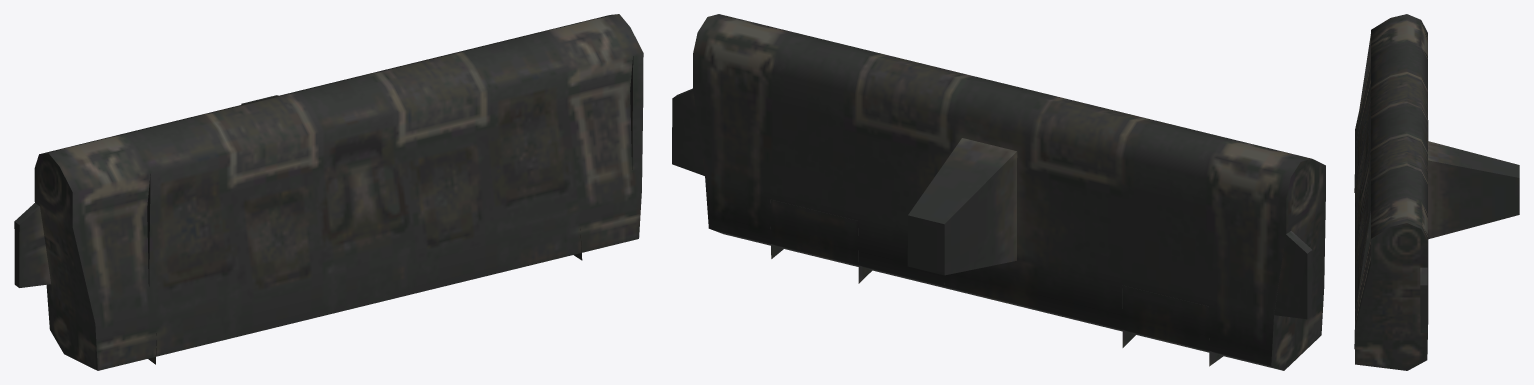
3 renders of one model, left to right at view 1: azimuth 30°, elevation 25°; view 2: azimuth 150°, elevation 25°; view 3: azimuth 270°, elevation 25°, orthographic. The views are drawn at different scales.
Visible parts, largest first — view 1: set_0_group_0; view 2: set_0_group_0; view 3: set_0_group_0.
Part boxes in pixels (<box>): set_0_group_0: <box>14,14,643,370</box>; set_0_group_0: <box>672,14,1325,370</box>; set_0_group_0: <box>1354,14,1519,370</box>.
Bounding box in the file's own units: 0.5788 × 0.1885 × 0.1806.
Materials: 1 (1 with a texture image).
